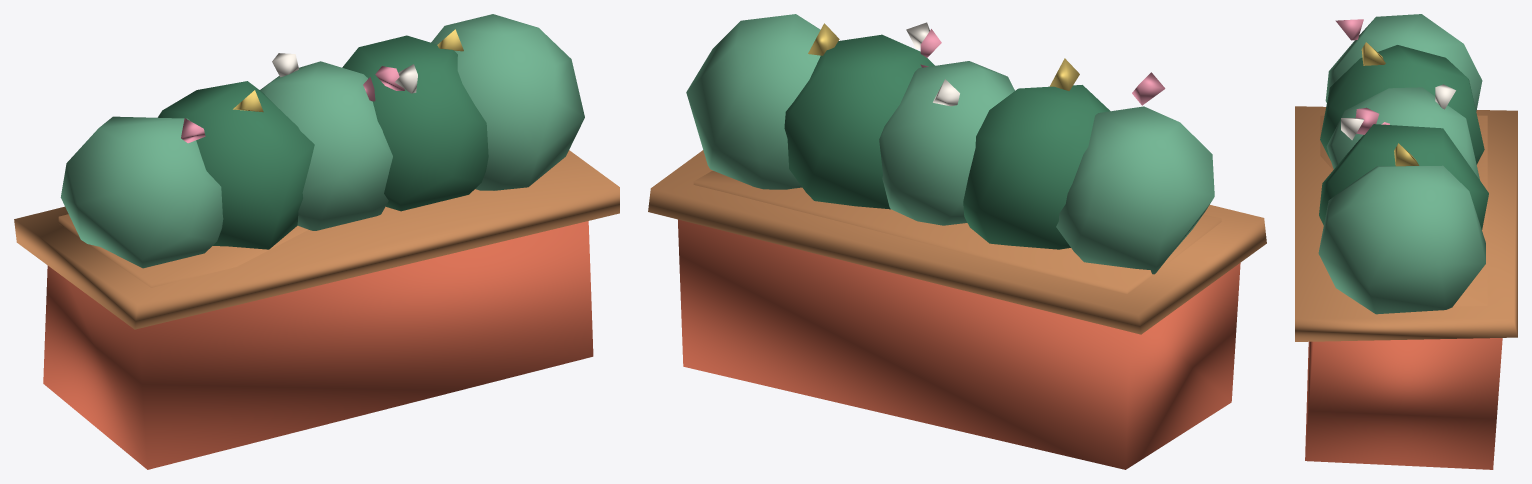
The model's file is planter.glb.
3 views of the same model, side by side, from view 1: azimuth 30°, elevation 25°; view 2: azimuth 150°, elevation 25°; view 3: azimuth 270°, elevation 25° (orthographic). The views are drawn at different scales.
Visible parts, largest first — view 1: planter; view 2: planter; view 3: planter.
Part boxes in pixels (x1,y1,x2,y2): planter: (14,14,619,469); planter: (648,14,1266,469); planter: (1295,14,1517,469).
Size of the model in its own units: 1.38 by 0.8686 by 0.5968.
Materials: 1 (1 with a texture image).
